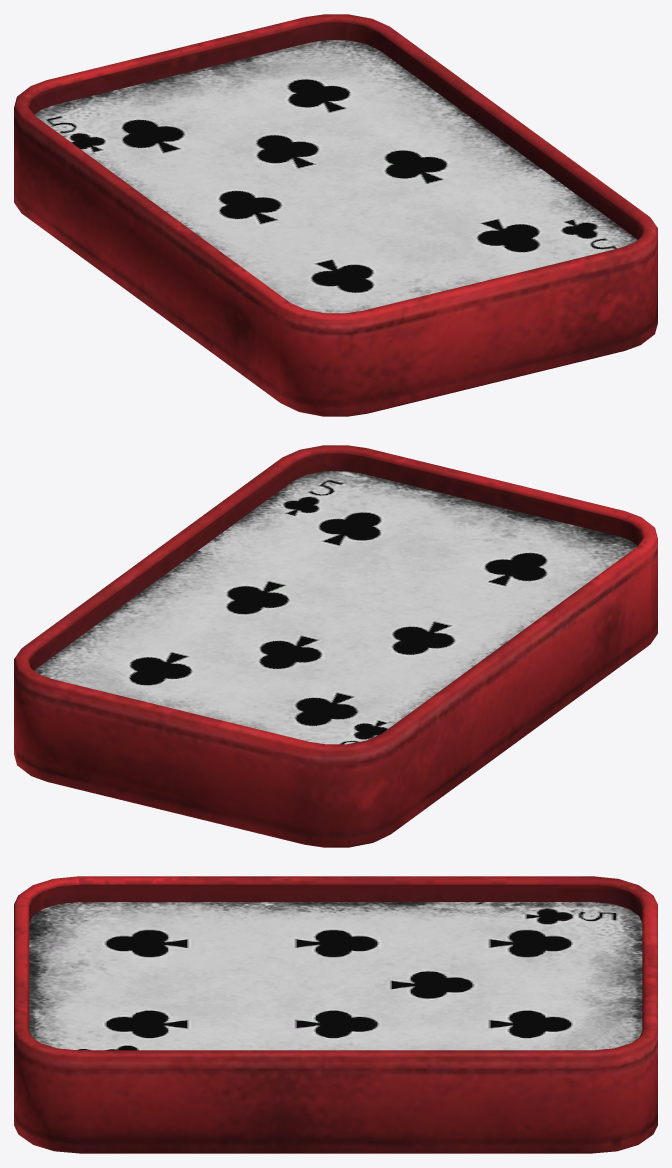
The model's file is akers_solitaire_Box&Cards.dae.
3 renders of one model, top to bottom at view 1: azimuth 30°, elevation 25°; view 2: azimuth 150°, elevation 25°; view 3: azimuth 270°, elevation 25°, orthographic.
Parts seen in each view (by area): view 1: Object001; view 2: Object001; view 3: Object001.
Boxes of the visible parts, left/top/right/bottom form: Object001: left=14, top=14, right=657, bottom=416; Object001: left=14, top=445, right=657, bottom=847; Object001: left=14, top=876, right=657, bottom=1153.
Bounding box in the file's own units: 0.1638 × 0.042 × 0.2473.
